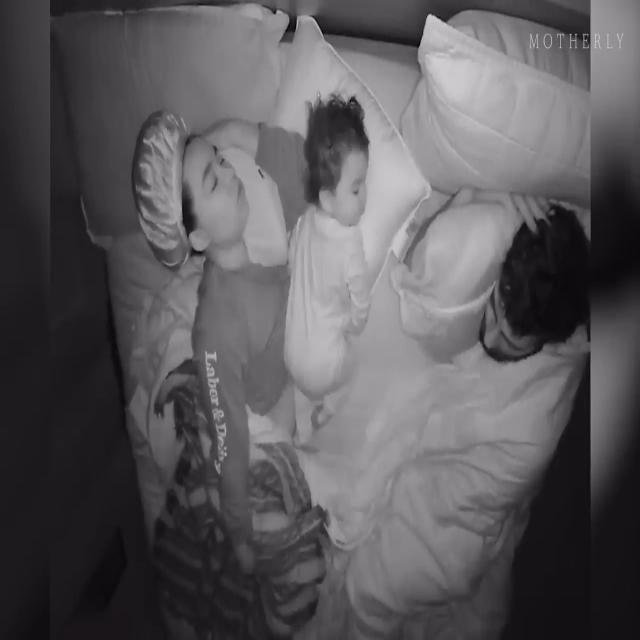baby: (281, 99, 374, 453)
